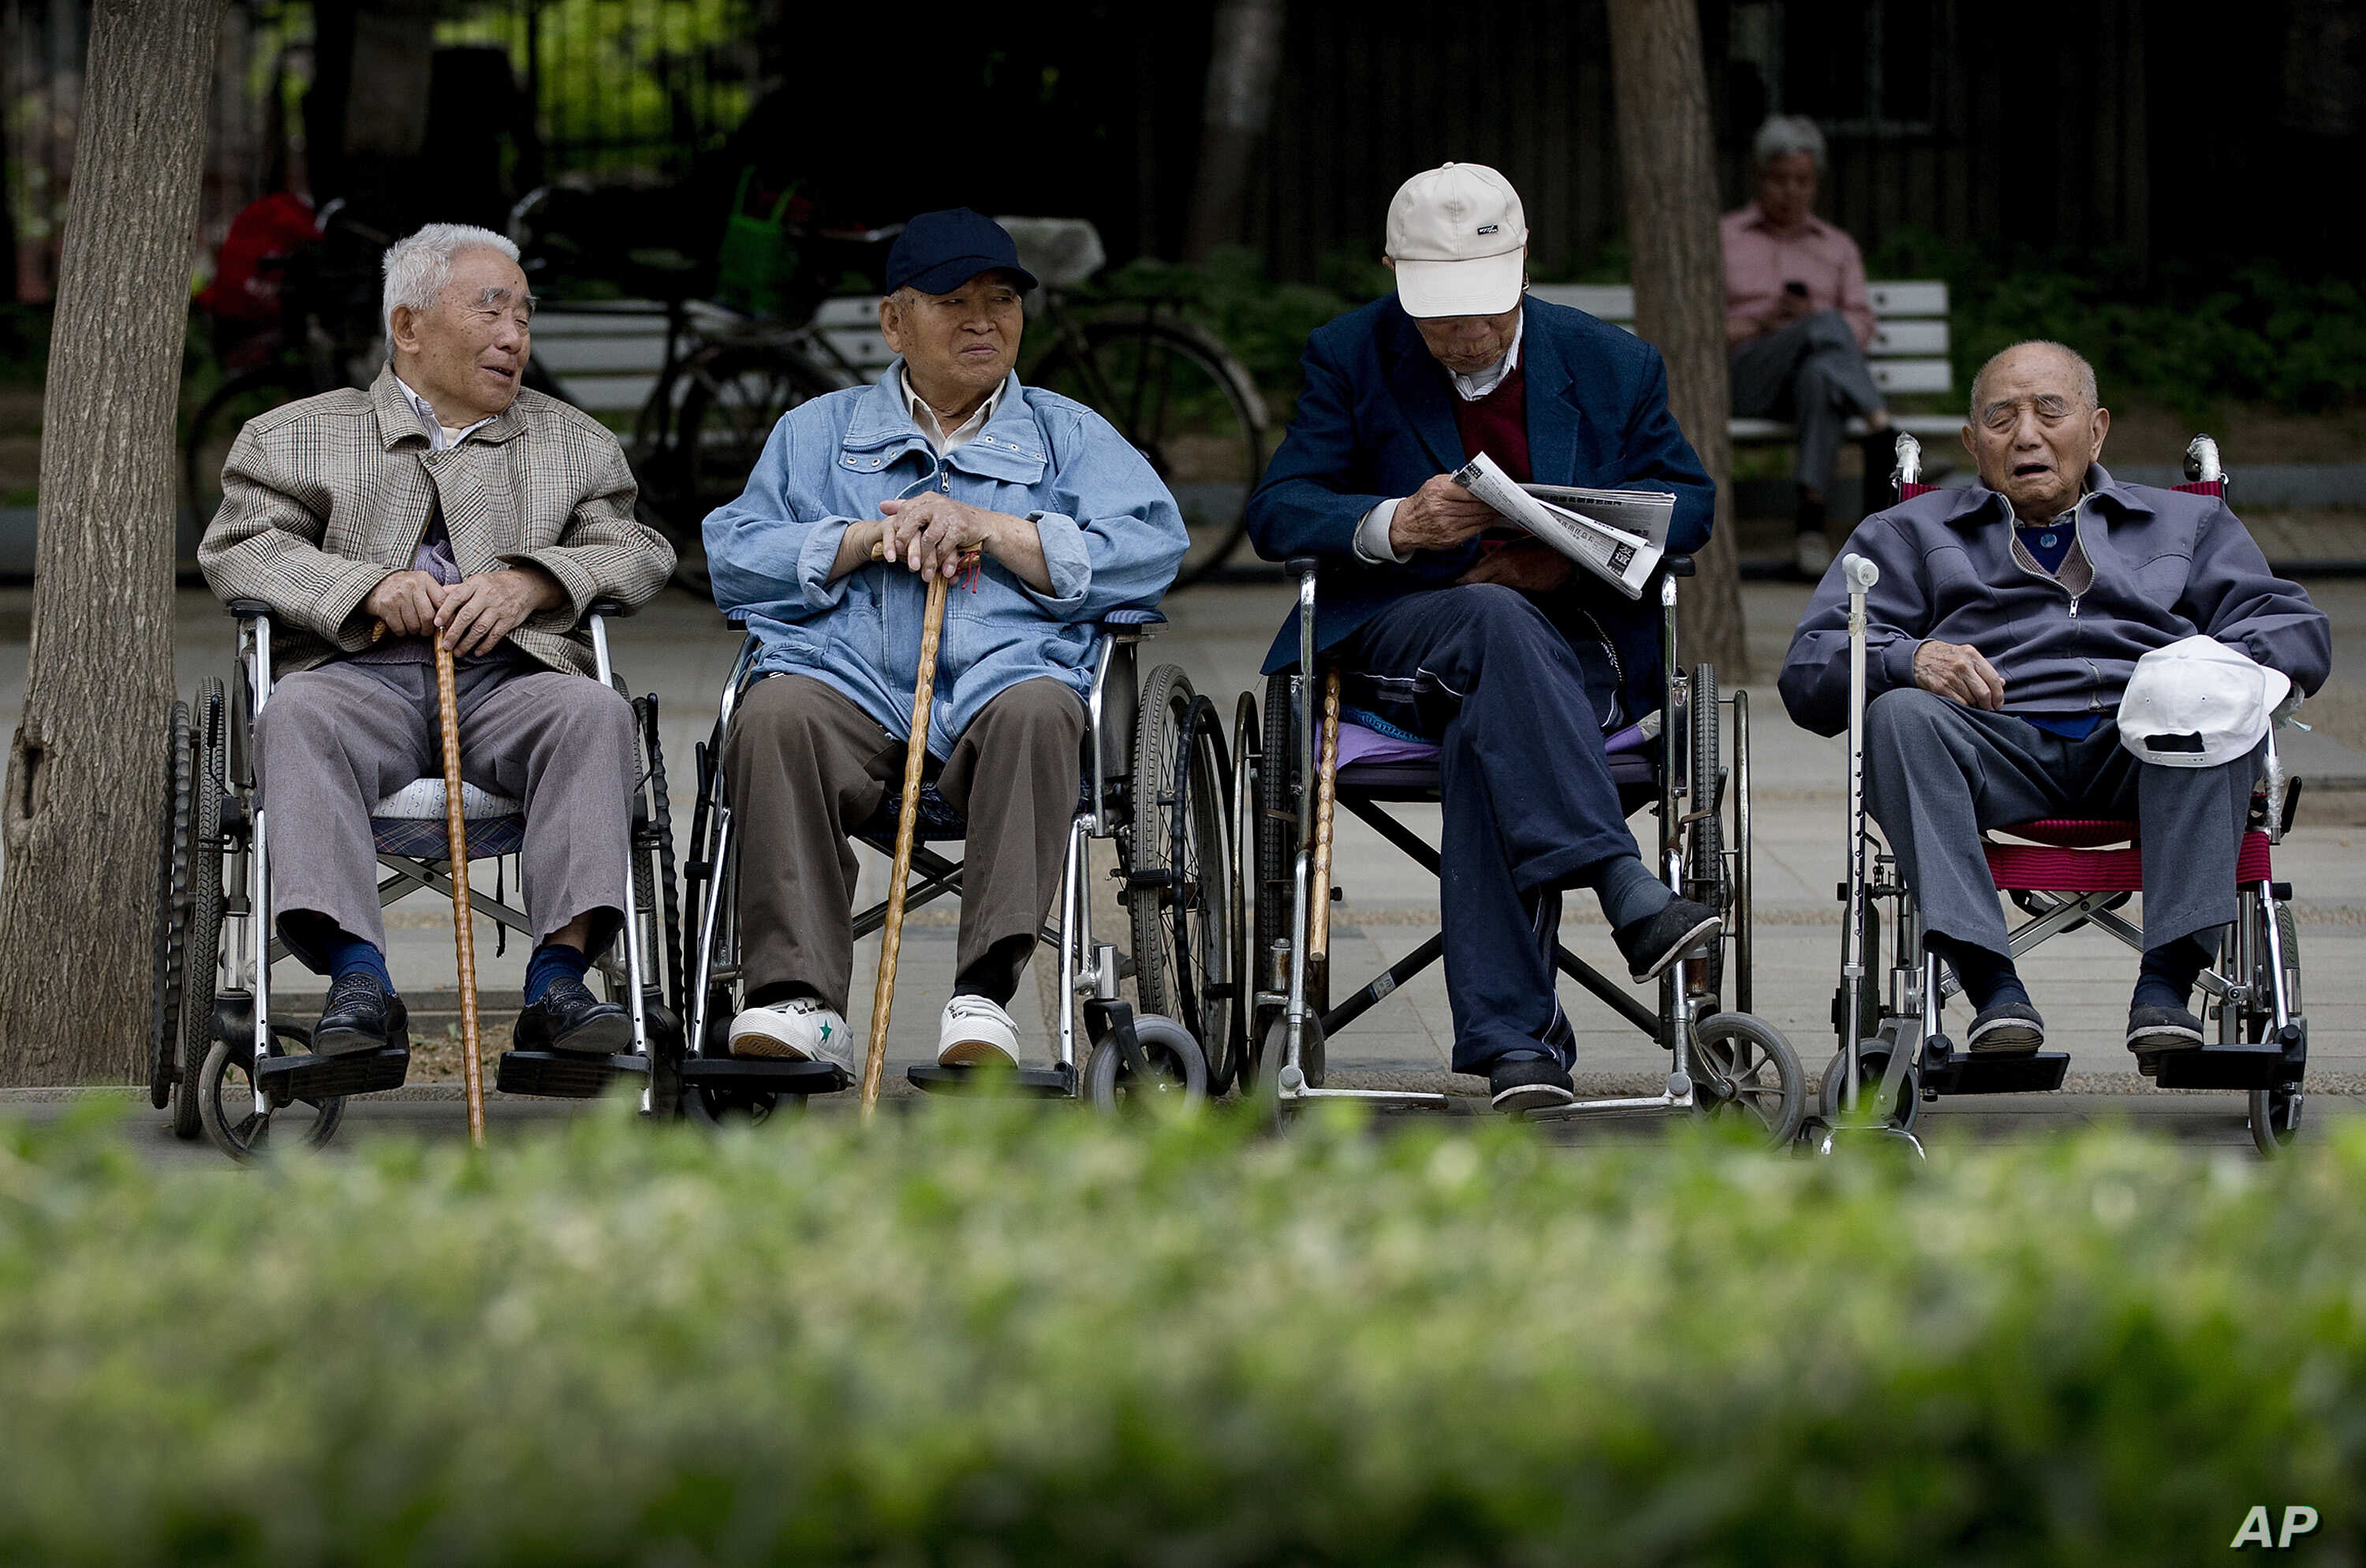Person: (1242, 161, 1751, 1118), (700, 210, 1194, 1072), (195, 222, 681, 1058), (1778, 340, 2334, 1056)
